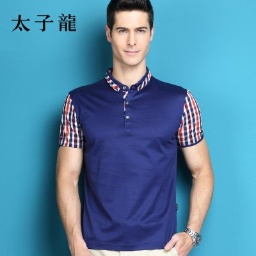face: (103, 1, 156, 65)
